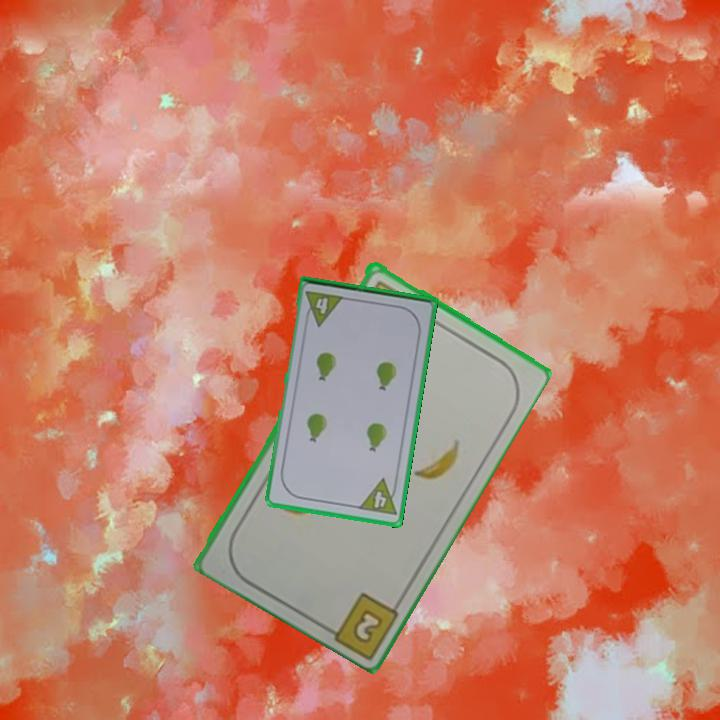2b: (348, 604, 386, 646)
4p: (355, 475, 401, 518), (302, 287, 347, 329)
